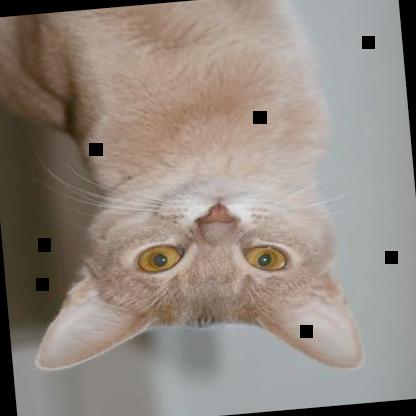cat: (0, 0, 367, 400)
